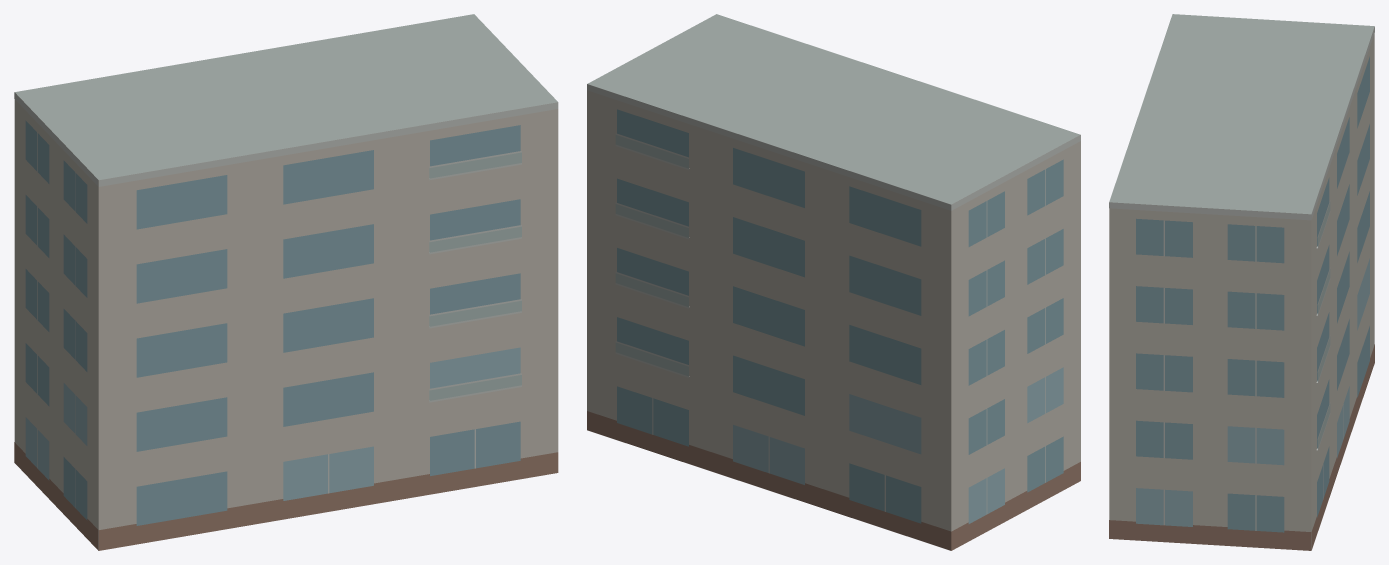
Rendered from survey-upis-32713103.glb.
3 renders of one model, left to right at view 1: azimuth 30°, elevation 25°; view 2: azimuth 150°, elevation 25°; view 3: azimuth 270°, elevation 25°, orthographic. The views are drawn at different scales.
Visible parts, largest first — view 1: survey-upis-32713103.tmp; view 2: survey-upis-32713103.tmp; view 3: survey-upis-32713103.tmp.
Boxes of the visible parts, x1,y1,x2,y2 form: survey-upis-32713103.tmp: [14, 14, 558, 550]; survey-upis-32713103.tmp: [587, 14, 1080, 550]; survey-upis-32713103.tmp: [1109, 14, 1374, 550].
Bounding box in the file's own units: 17.24 × 13.5 × 9.67.
